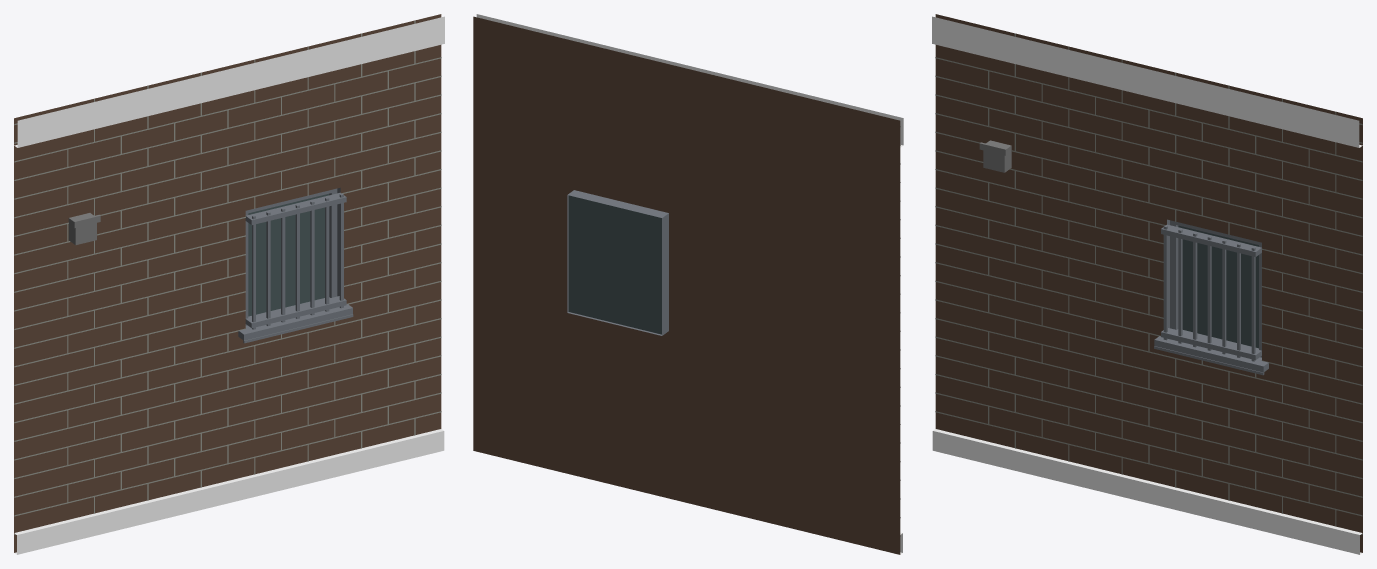
Rendered from top-w4_close.fbx.
3 views of the same model, side by side, from view 1: azimuth 30°, elevation 25°; view 2: azimuth 150°, elevation 25°; view 3: azimuth 330°, elevation 25° (orthographic).
Visible parts, largest first — view 1: a2000s3/800/top-w4_close; view 2: a2000s3/800/top-w4_close; view 3: a2000s3/800/top-w4_close.
Boxes of the visible parts, <box> form: a2000s3/800/top-w4_close: <box>14,14,444,554</box>; a2000s3/800/top-w4_close: <box>473,14,903,554</box>; a2000s3/800/top-w4_close: <box>932,14,1362,554</box>.
Size of the model in its own units: 3.6 by 3.5 by 0.22.
